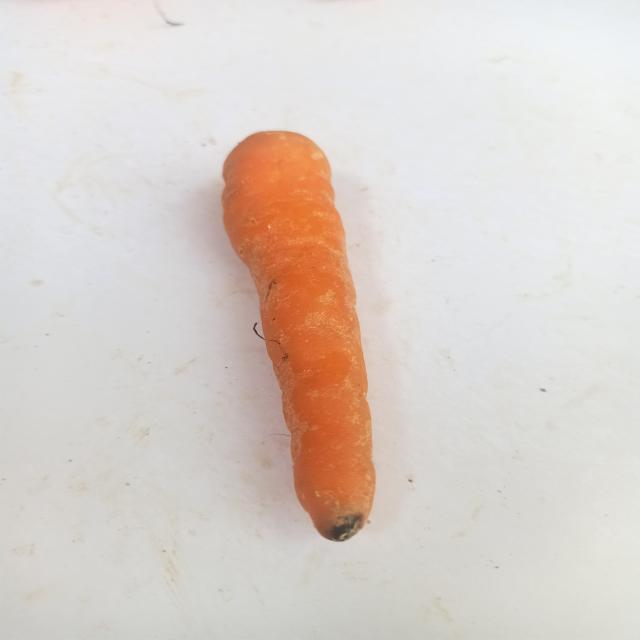Carrot: (208, 118, 386, 546)
